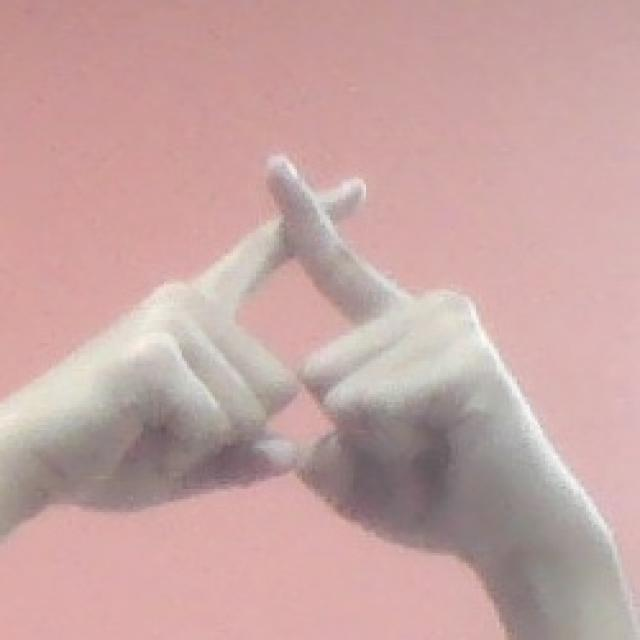Alphabet-X: (0, 130, 584, 592)
